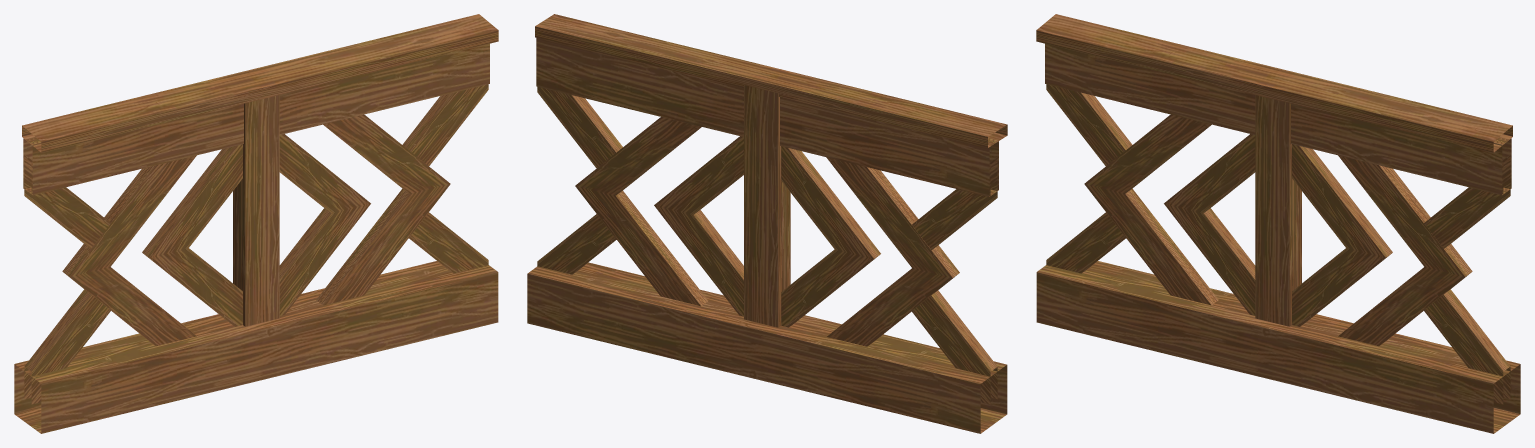
The model's file is Balcony_Cross_Straight.gltf.
The picture shows the model from 3 angles, left to right: view 1: azimuth 30°, elevation 25°; view 2: azimuth 150°, elevation 25°; view 3: azimuth 330°, elevation 25°; orthographic projection.
Parts seen in each view (by area): view 1: Balcony_Cross_Straight; view 2: Balcony_Cross_Straight; view 3: Balcony_Cross_Straight.
Part boxes in pixels (x1,y1,x2,y2): Balcony_Cross_Straight: (14, 14, 498, 433); Balcony_Cross_Straight: (527, 14, 1007, 433); Balcony_Cross_Straight: (1036, 14, 1520, 433).
Size of the model in its own units: 2 by 1.23 by 0.2063.
Materials: 1 (1 with a texture image).
